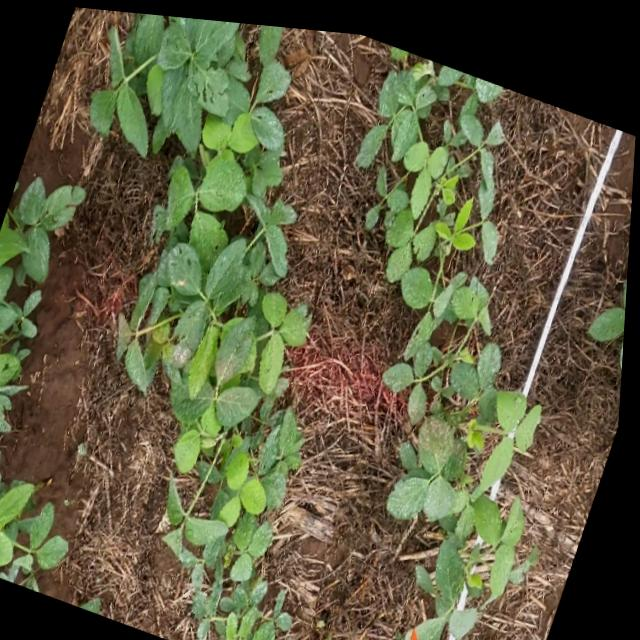soy_plant: (92, 10, 314, 640), (0, 177, 87, 432), (0, 463, 73, 590)
